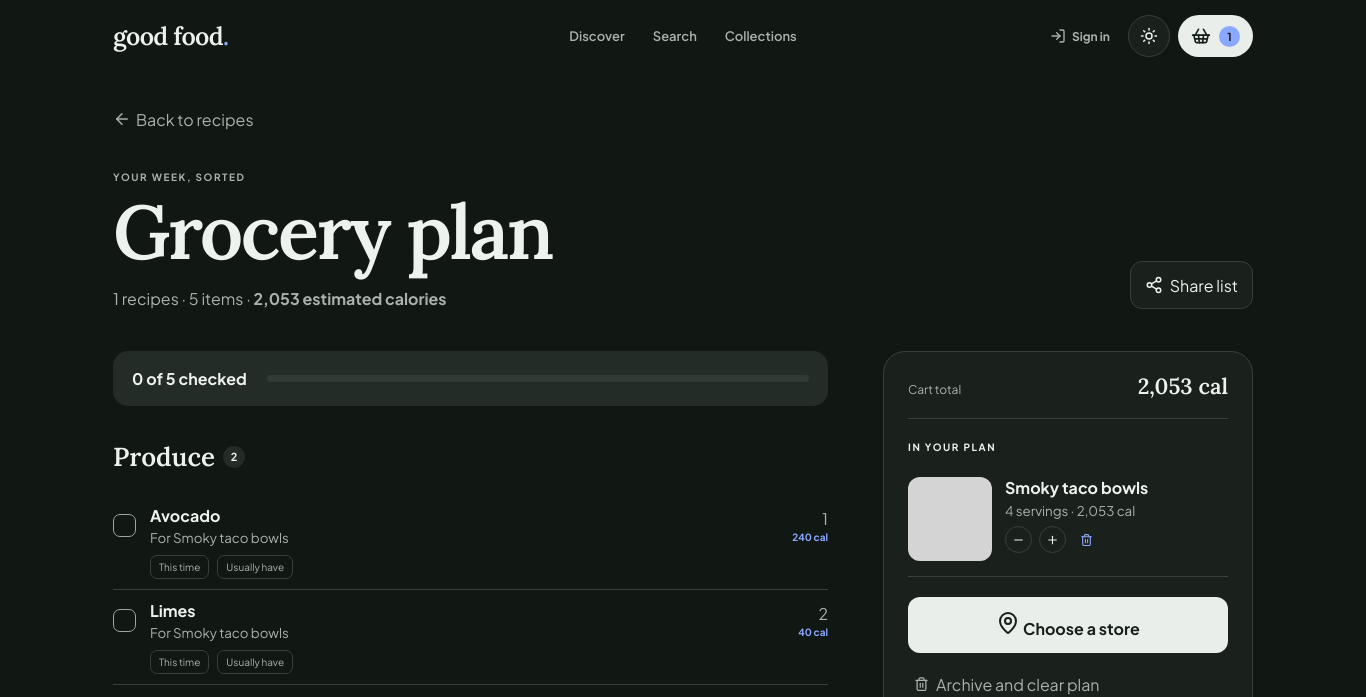
Test: active grocery plan › remembers an item the user usually has in the pantry
Step 1. Click the button with aria-label "I usually have Avocado" → point(255, 567), box [217, 555, 293, 579]
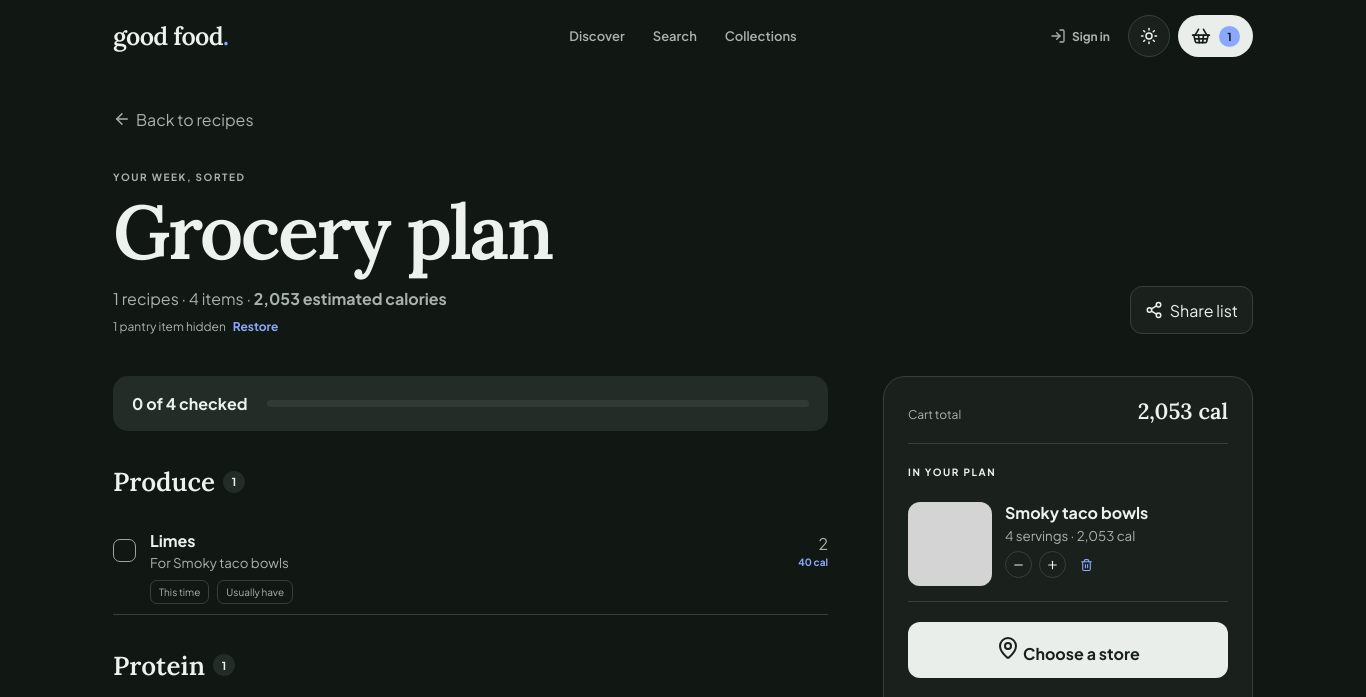
Result: the button "Avocado" is gone
Result: the text "1 pantry item hidden" is shown at [113, 319, 226, 334]
